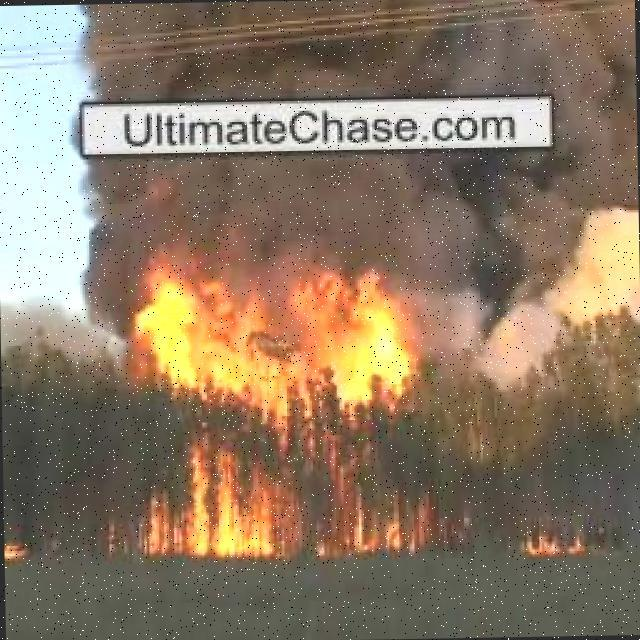Fire: (131, 240, 419, 556), (527, 531, 585, 557), (4, 535, 26, 562)
